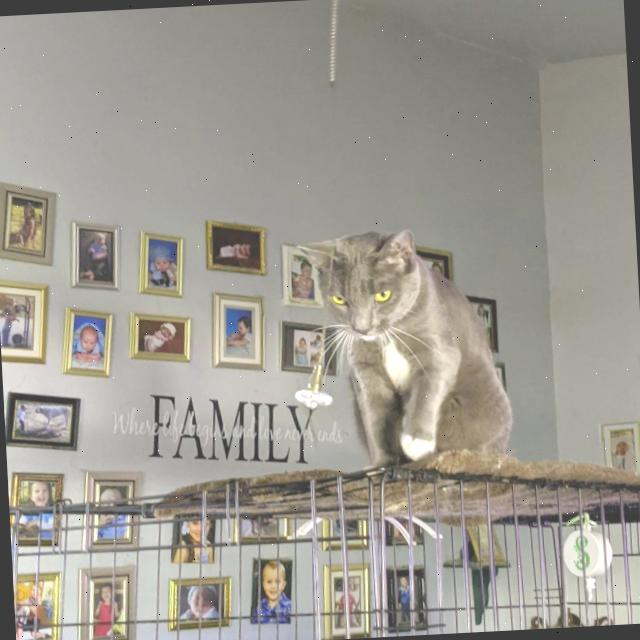russian_blue_cat: (290, 224, 440, 356)
